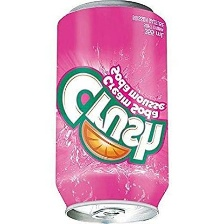can: (53, 0, 173, 222)
